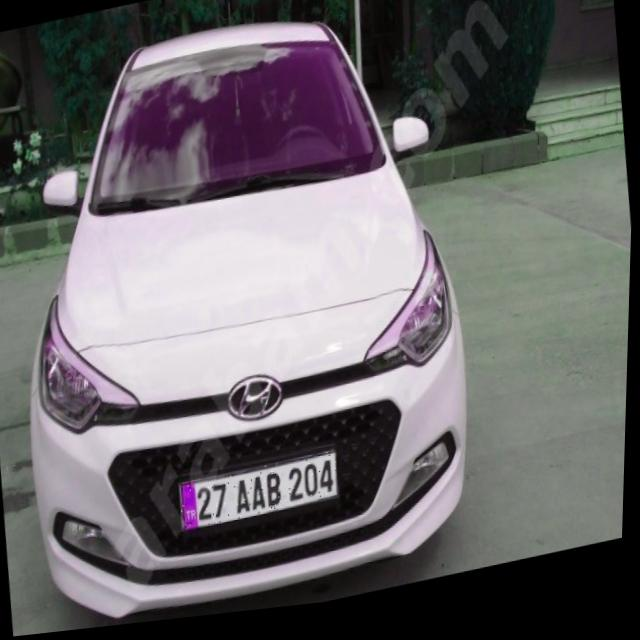license_plate: (180, 457, 343, 536)
